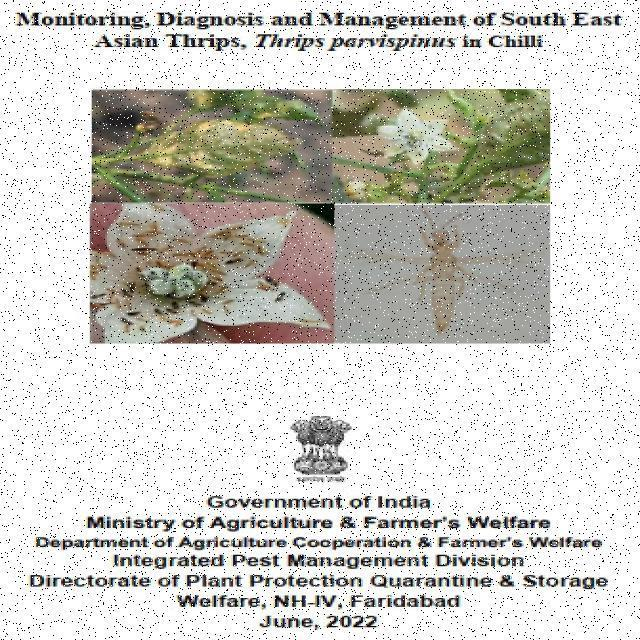Thrips: (391, 199, 521, 343)
